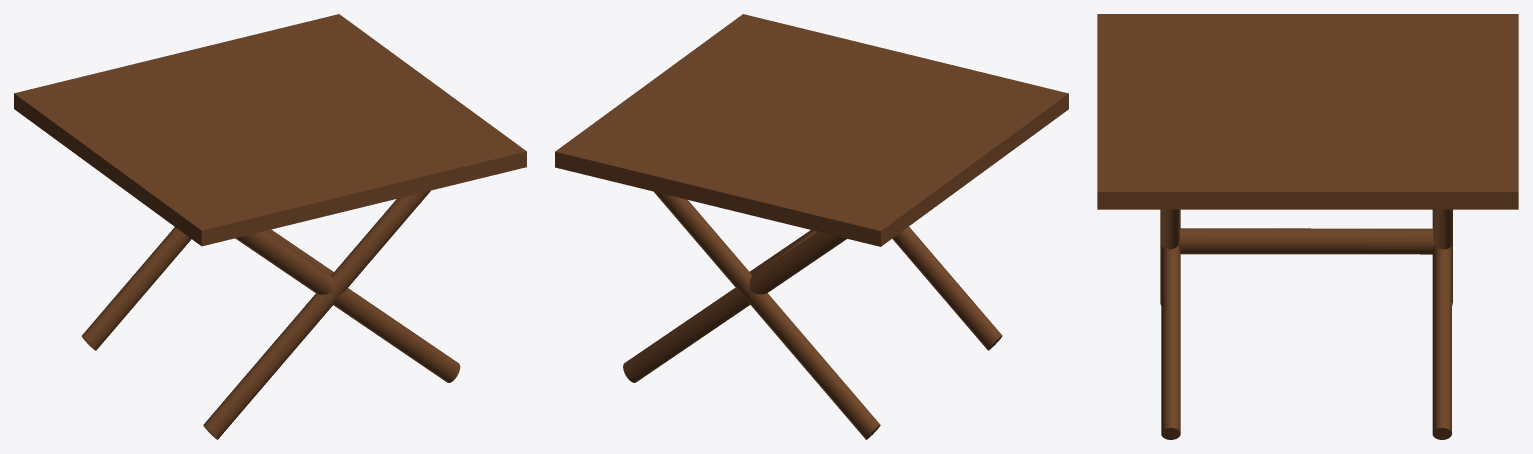
Rendered from side_table.fbx.
3 views of the same model, side by side, from view 1: azimuth 30°, elevation 25°; view 2: azimuth 150°, elevation 25°; view 3: azimuth 270°, elevation 25° (orthographic). The views are drawn at different scales.
Visible parts, largest first — view 1: table; view 2: table; view 3: table.
Part boxes in pixels (bbox=[...]): table: bbox=[14, 14, 526, 439]; table: bbox=[555, 14, 1068, 439]; table: bbox=[1097, 14, 1518, 439].
Bounding box in the file's own units: 384 × 275 × 384.
